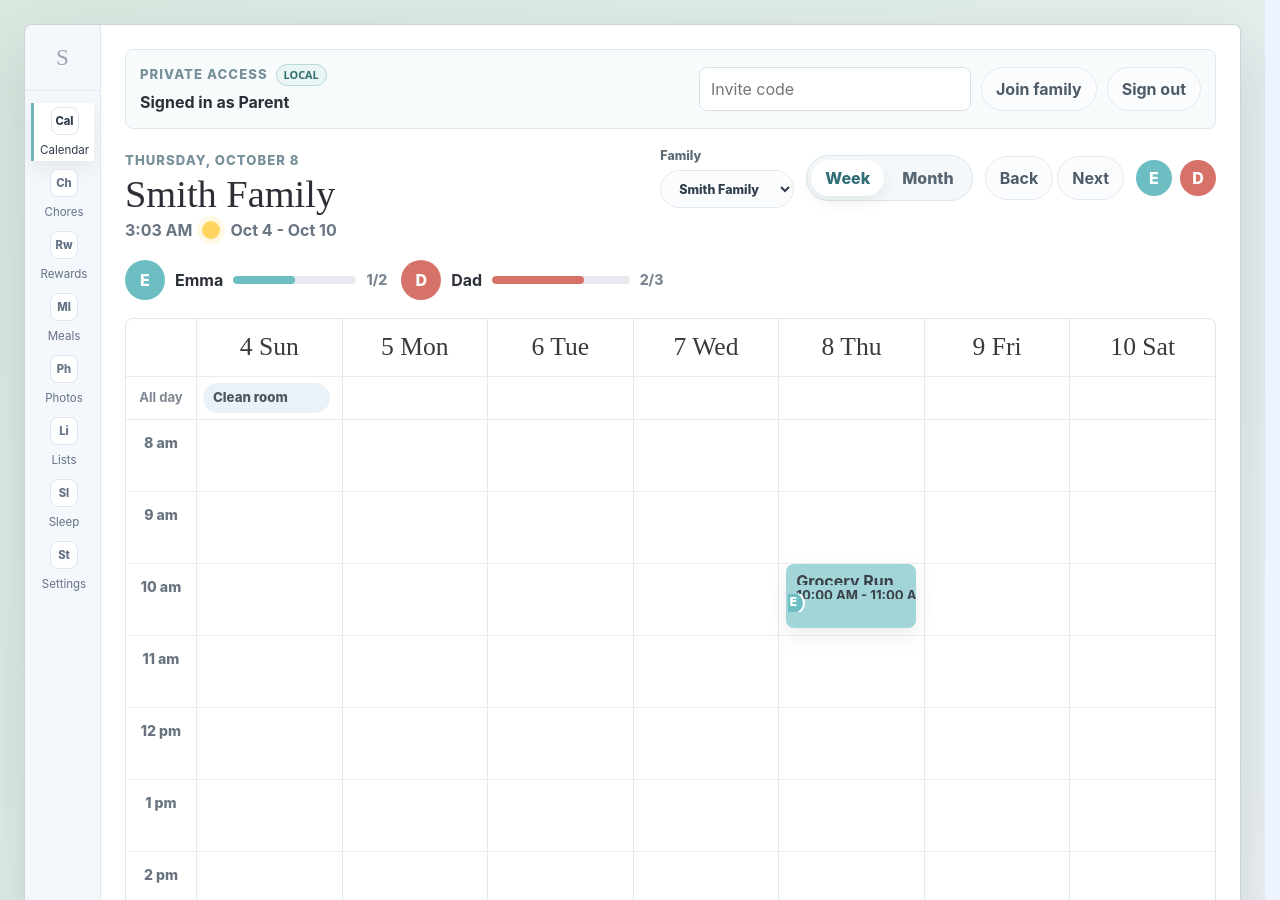
Test case: App › shows read-only family administration to members
Expected: the heading "Smith Family" is shown, [125, 175, 337, 214]
Click the button "St Settings": (62, 566) [31, 537, 94, 595]
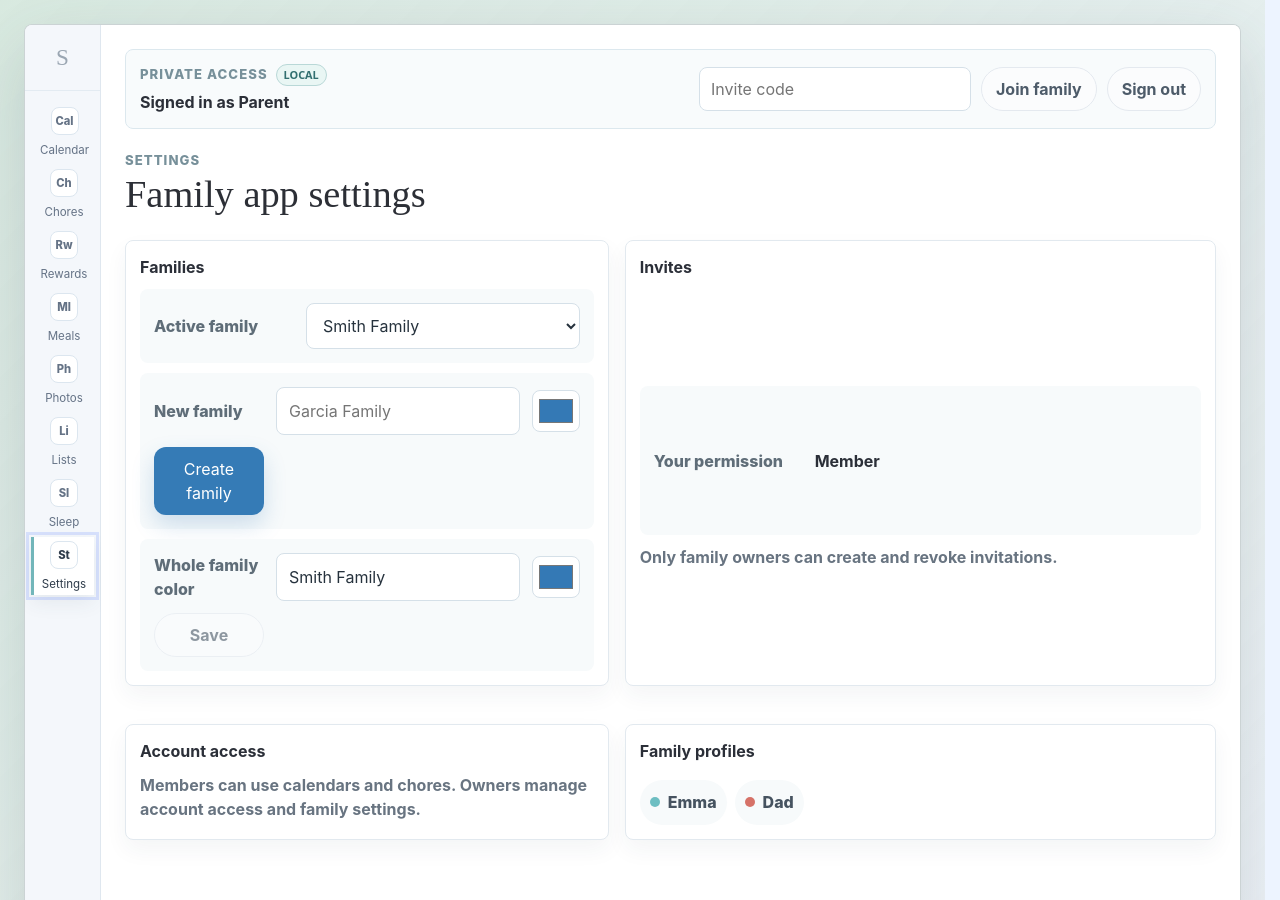
Expected: the text "Your permission" is shown, [654, 449, 803, 473]
Expected: the text "Only family owners can create and revoke invitations." is shown, [640, 547, 1058, 567]
